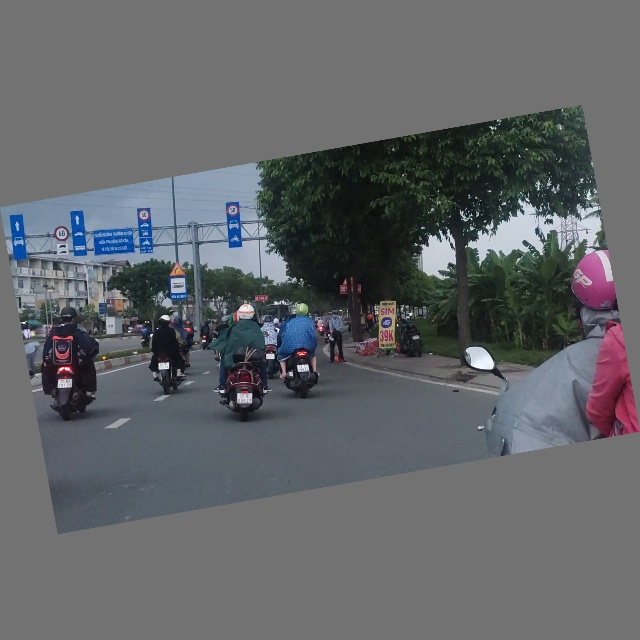I.434a: (167, 276, 189, 302)
P.127*50: (226, 204, 240, 218), (137, 209, 150, 223)
P.127*60: (53, 225, 71, 243)
S.505a*Xe tai va cong: (55, 242, 70, 258)
W.201b: (167, 262, 186, 279)
